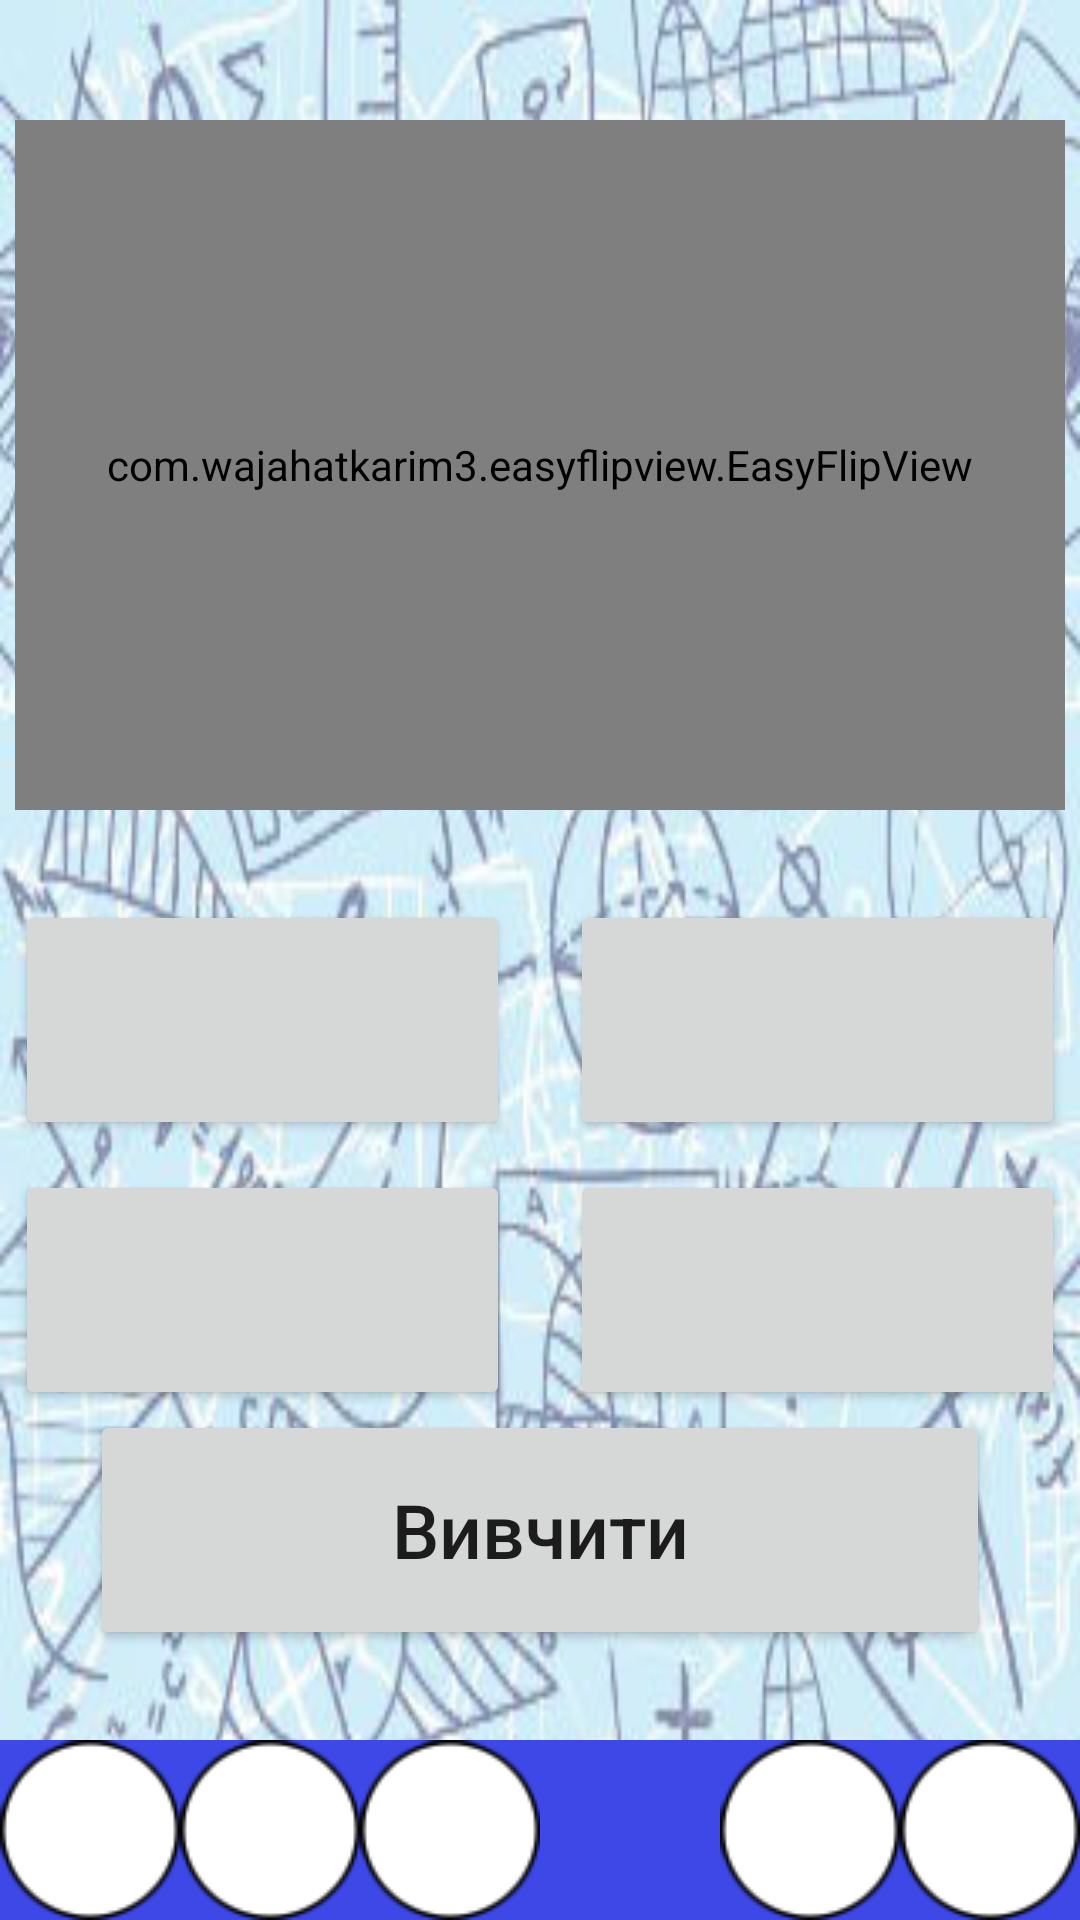

Where to tap for icons on this 1080*1920 app screen, as (x,y):
circle: (90,1830), (270,1830), (450,1830), (810,1830), (990,1830)
